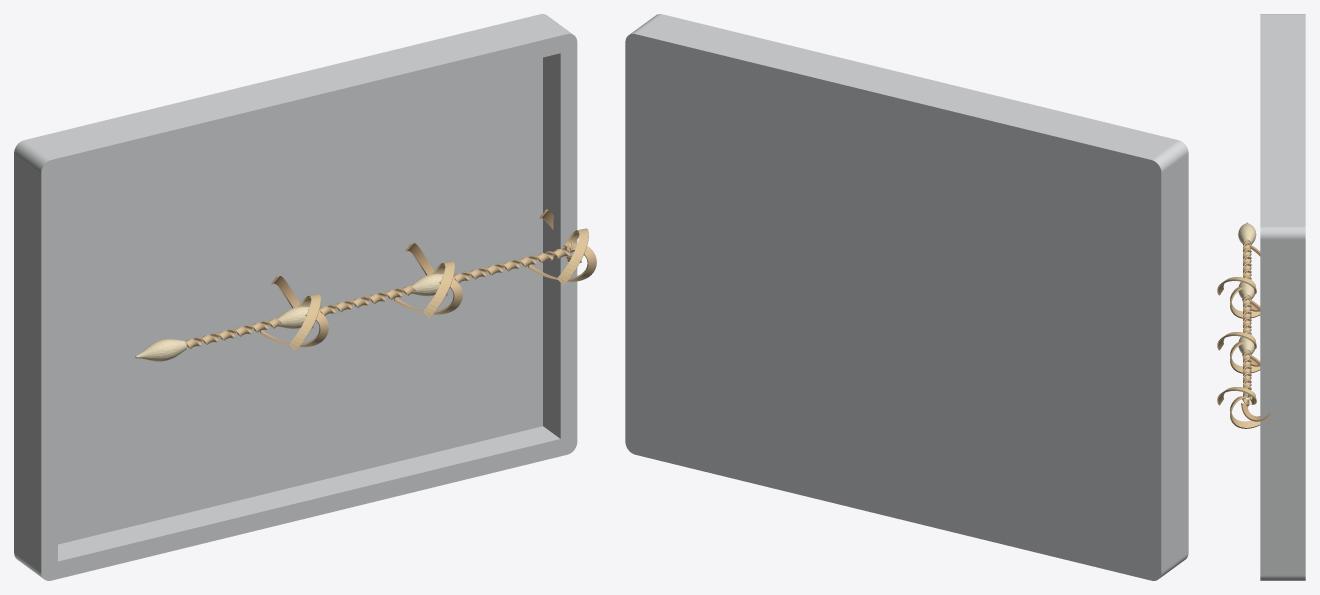
The model's file is output_tray.glb.
The picture shows the model from 3 angles, left to right: view 1: azimuth 30°, elevation 25°; view 2: azimuth 150°, elevation 25°; view 3: azimuth 270°, elevation 25°; orthographic projection. The views are drawn at different scales.
Parts seen in each view (by area): view 1: O01_finished_seedpod_tray_12, carrier3_body, carrier1_body, carrier2_body, carrier1_tip, carrier3_tail1; view 2: O01_finished_seedpod_tray_12; view 3: O01_finished_seedpod_tray_12, carrier3_body, carrier3_tail2, carrier1_body, carrier2_body, carrier1_tip, carrier3_tail1, carrier3_tail3, carrier1_tail2, carrier2_tail2, carrier1_tail1, carrier2_tail1 (+2 smaller).
Part boxes in pixels (<box>): O01_finished_seedpod_tray_12: <box>14,14,577,580</box>; carrier3_body: <box>453,248,569,283</box>; carrier1_body: <box>185,318,281,348</box>; carrier2_body: <box>319,285,415,315</box>; carrier1_tip: <box>135,339,186,361</box>; carrier3_tail1: <box>557,228,588,285</box>; O01_finished_seedpod_tray_12: <box>625,14,1188,580</box>; O01_finished_seedpod_tray_12: <box>1260,14,1305,580</box>; carrier3_body: <box>1243,349,1251,404</box>; carrier3_tail2: <box>1230,394,1260,428</box>; carrier1_body: <box>1243,239,1251,279</box>; carrier2_body: <box>1243,294,1251,334</box>; carrier1_tip: <box>1238,222,1256,245</box>; carrier3_tail1: <box>1217,387,1256,405</box>; carrier3_tail3: <box>1241,354,1270,421</box>; carrier1_tail2: <box>1230,286,1260,318</box>; carrier2_tail2: <box>1230,341,1260,373</box>; carrier1_tail1: <box>1217,277,1256,295</box>; carrier2_tail1: <box>1217,332,1256,350</box>.
Bounding box in the file's own units: 160 × 120 × 27.24.
